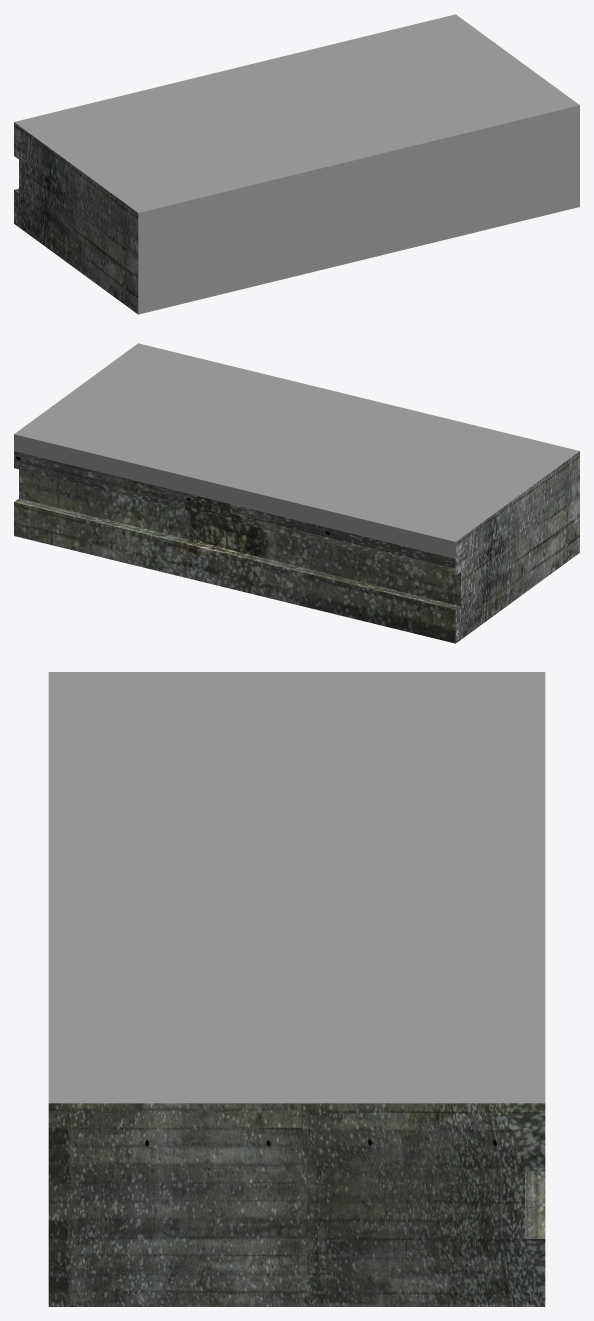
The model's file is plattform_side.fbx.
The picture shows the model from 3 angles, top to bottom: view 1: azimuth 30°, elevation 25°; view 2: azimuth 150°, elevation 25°; view 3: azimuth 270°, elevation 25°; orthographic projection. The views are drawn at different scales.
Parts seen in each view (by area): view 1: plattform_side; view 2: plattform_side; view 3: plattform_side.
Part boxes in pixels (x1,y1,x2,y2): plattform_side: [14, 14, 579, 314]; plattform_side: [14, 343, 579, 643]; plattform_side: [48, 672, 545, 1306].
Size of the model in its own units: 500 by 110 by 244.
